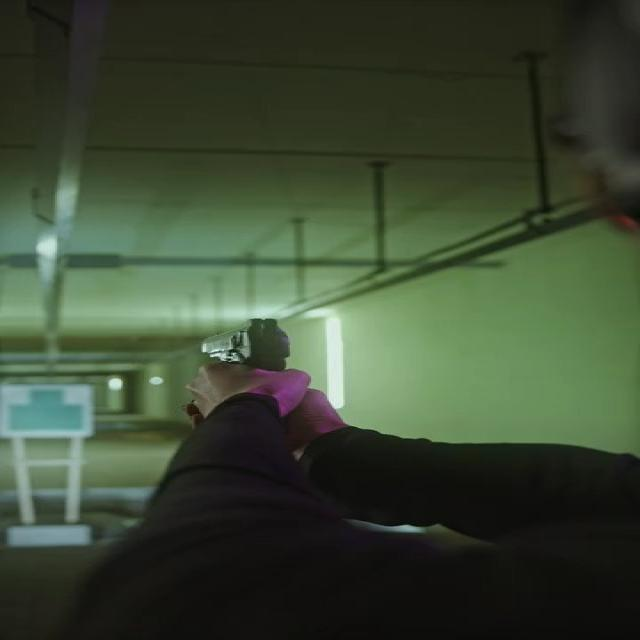Gun_Holder: (133, 312, 362, 442)
